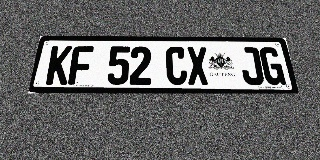2: (129, 46, 151, 85)
5: (107, 46, 130, 85)
C: (166, 47, 188, 85)
F: (68, 46, 94, 85)
G: (259, 47, 286, 85)
J: (238, 47, 265, 85)
K: (45, 46, 73, 85)
X: (186, 47, 209, 85)
